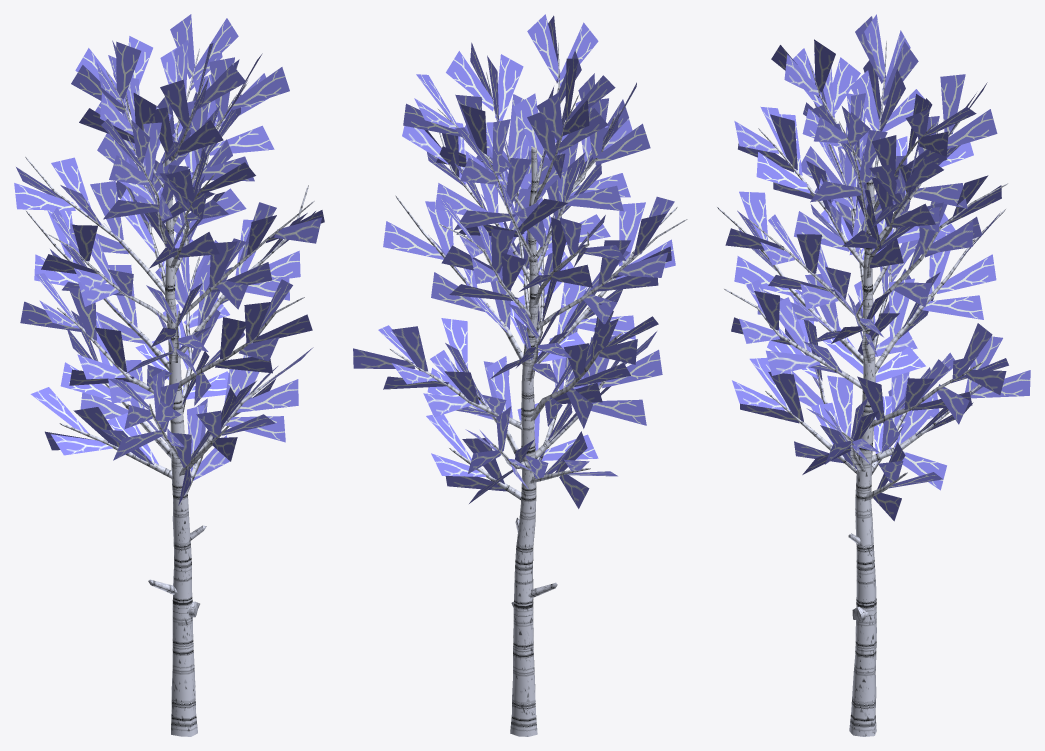
The model's file is Birch_05.fbx.
3 renders of one model, left to right at view 1: azimuth 30°, elevation 25°; view 2: azimuth 150°, elevation 25°; view 3: azimuth 270°, elevation 25°, orthographic.
Visible parts, largest first — view 1: LOD0; view 2: LOD0; view 3: LOD0.
Part boxes in pixels (left/top/right/bottom): LOD0: left=14, top=14, right=324, bottom=736; LOD0: left=353, top=14, right=687, bottom=736; LOD0: left=716, top=14, right=1030, bottom=736.
Size of what is drawn, in the model's own units: 324 by 762 by 313.
